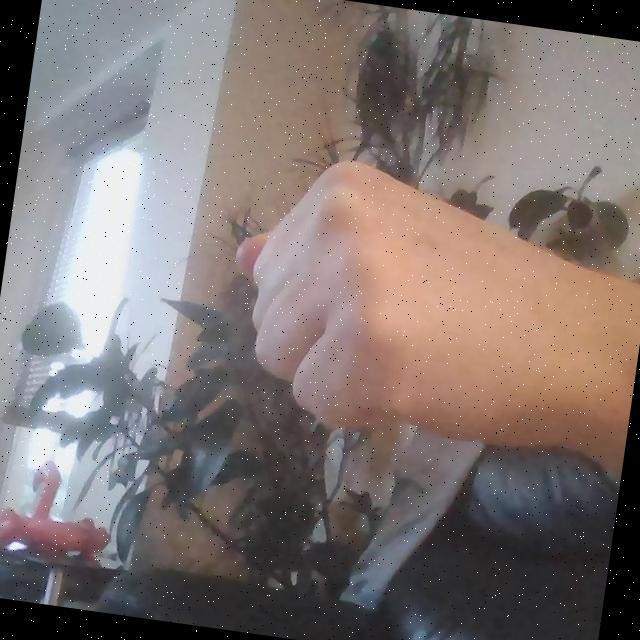rock: (214, 148, 576, 461)
